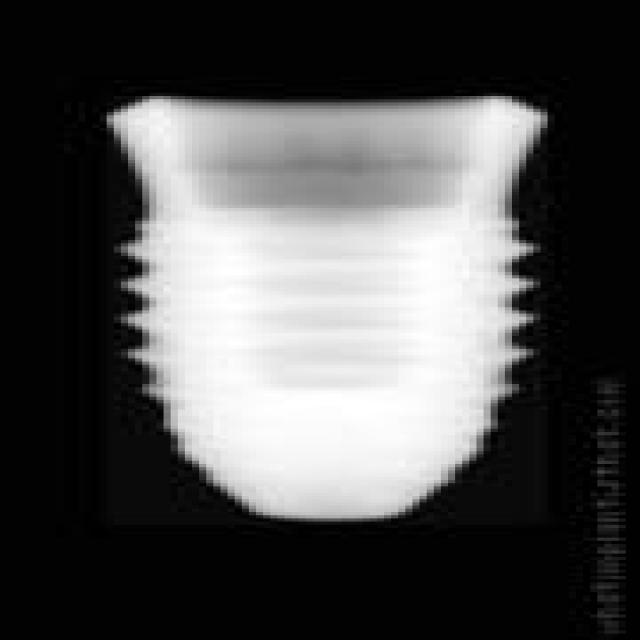Titan Implant Implant: (107, 96, 548, 525)
